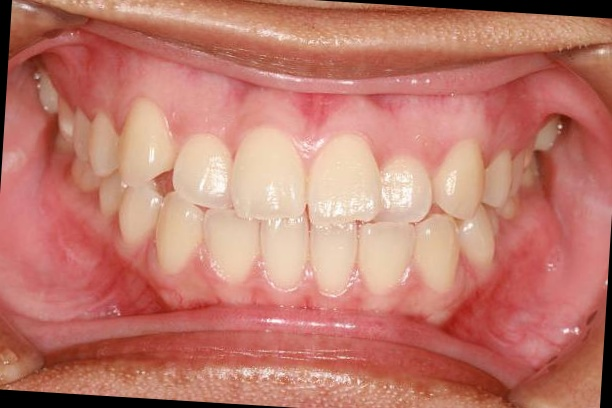Gingivitis: (443, 274, 533, 338), (93, 263, 167, 314)
